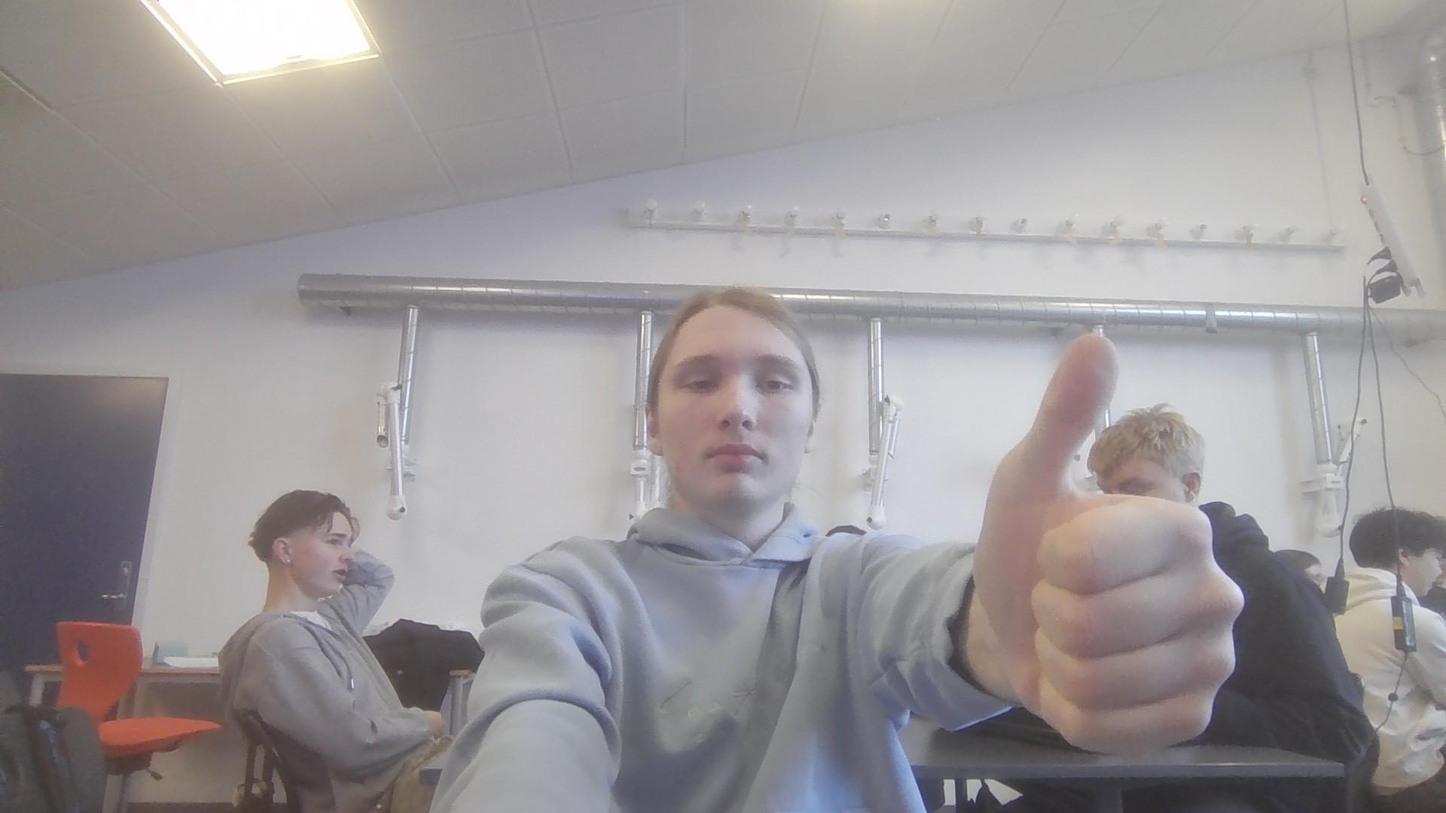thumbs up: (968, 322, 1254, 755)
